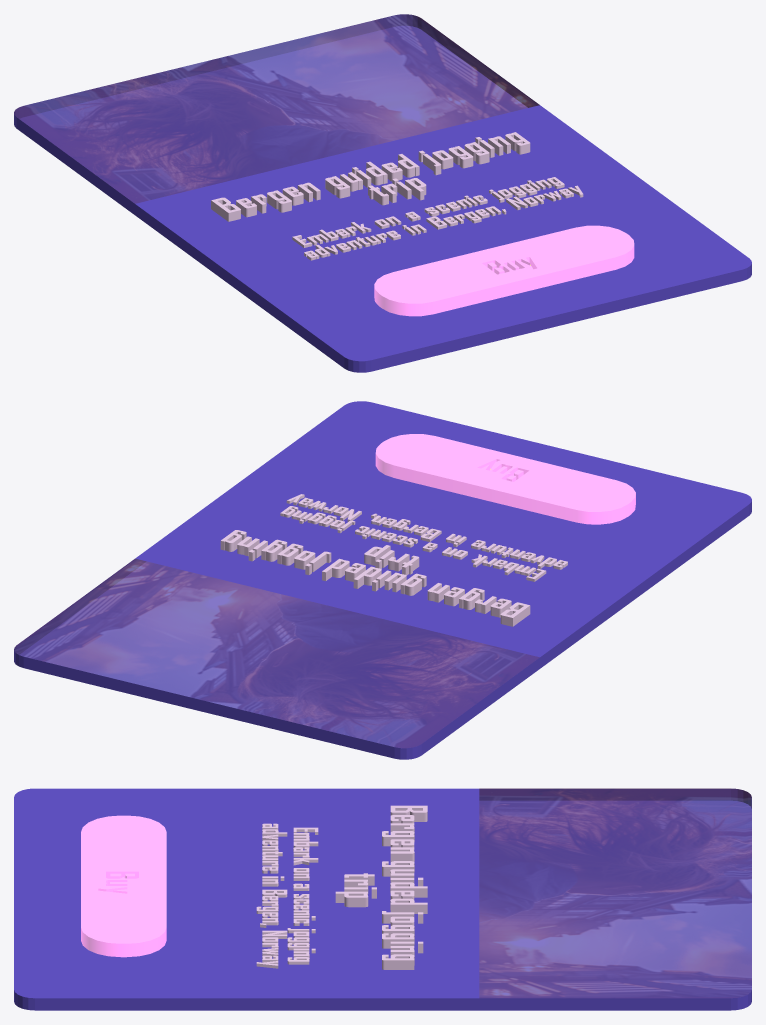
File: Card.gltf
3 views of the same model, one above another, from view 1: azimuth 30°, elevation 25°; view 2: azimuth 150°, elevation 25°; view 3: azimuth 270°, elevation 25° (orthographic). The views are drawn at different scales.
Visible parts, largest first — view 1: Body, Button, Title, Description; view 2: Body, Button, Title, Description; view 3: Body, Button, Title, Description.
Part boxes in pixels (x1=…): Body: x1=14, y1=14, x2=751, y2=372; Button: x1=374, y1=225, x2=634, y2=316; Title: x1=211, y1=132, x2=530, y2=221; Description: x1=292, y1=177, x2=583, y2=260; Body: x1=14, y1=401, x2=751, y2=759; Button: x1=375, y1=434, x2=635, y2=524; Title: x1=220, y1=530, x2=530, y2=626; Description: x1=280, y1=494, x2=567, y2=581; Body: x1=14, y1=788, x2=751, y2=1010; Button: x1=81, y1=815, x2=166, y2=957; Title: x1=335, y1=805, x2=427, y2=969; Description: x1=256, y1=823, x2=318, y2=968.
Bounding box in the file's own units: 3.27 × 0.1859 × 4.86.
